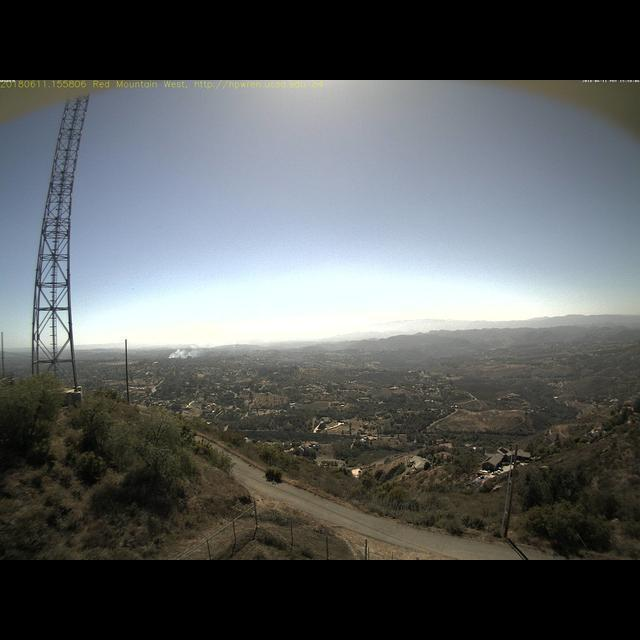Smoke: (167, 338, 233, 360)
